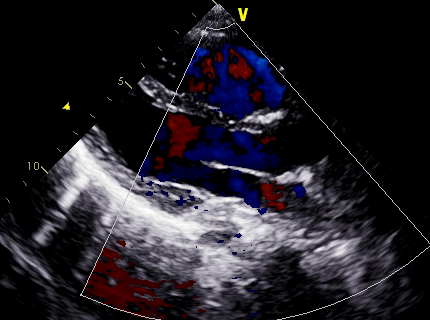AR: (167, 114, 216, 159)
